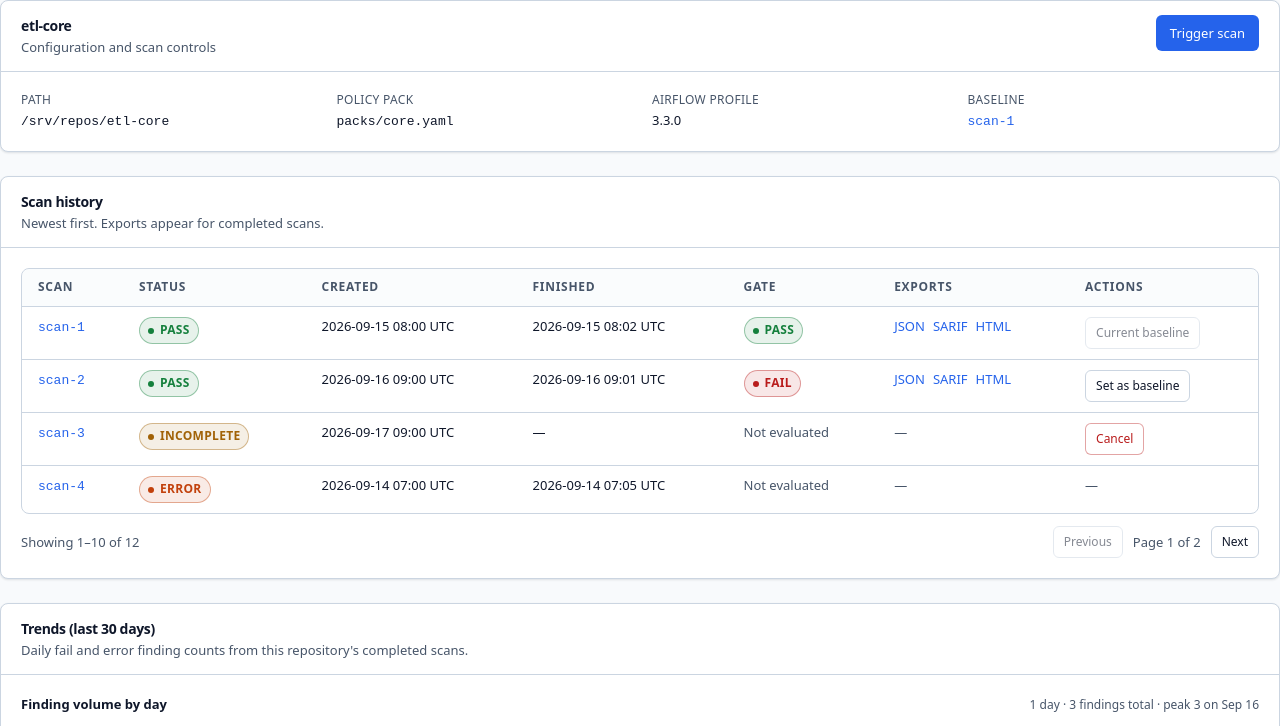
RepositoryPage › cancels an active scan and surfaces a terminal-state conflict inline
Click the button "Cancel".
click(1115, 439)  # box [1085,423,1144,455]
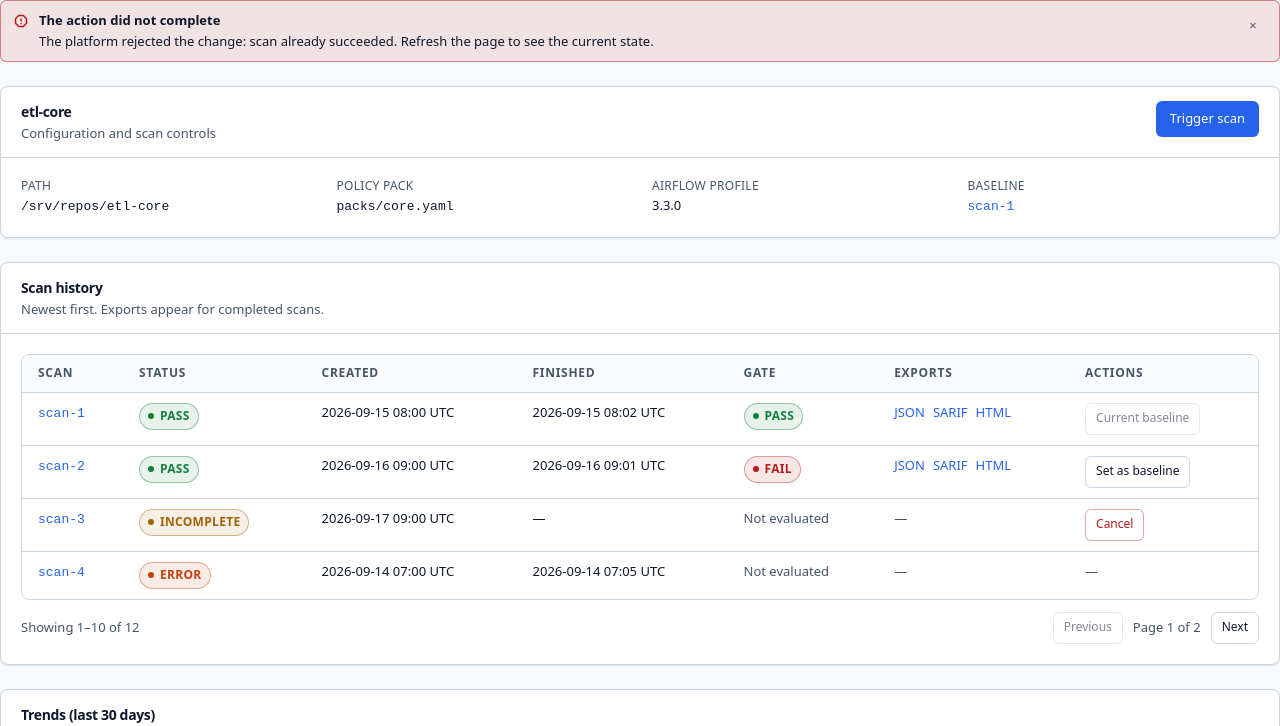
Now the message shows "scan already succeeded", box [39,32,654,50]
Now the message shows "rejected", box [39,32,654,50]
